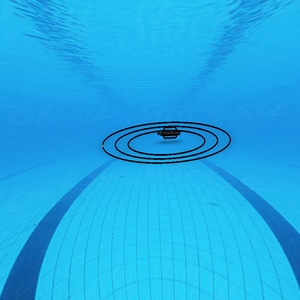circle: (100, 118, 234, 164)
submarine: (157, 124, 181, 139)
